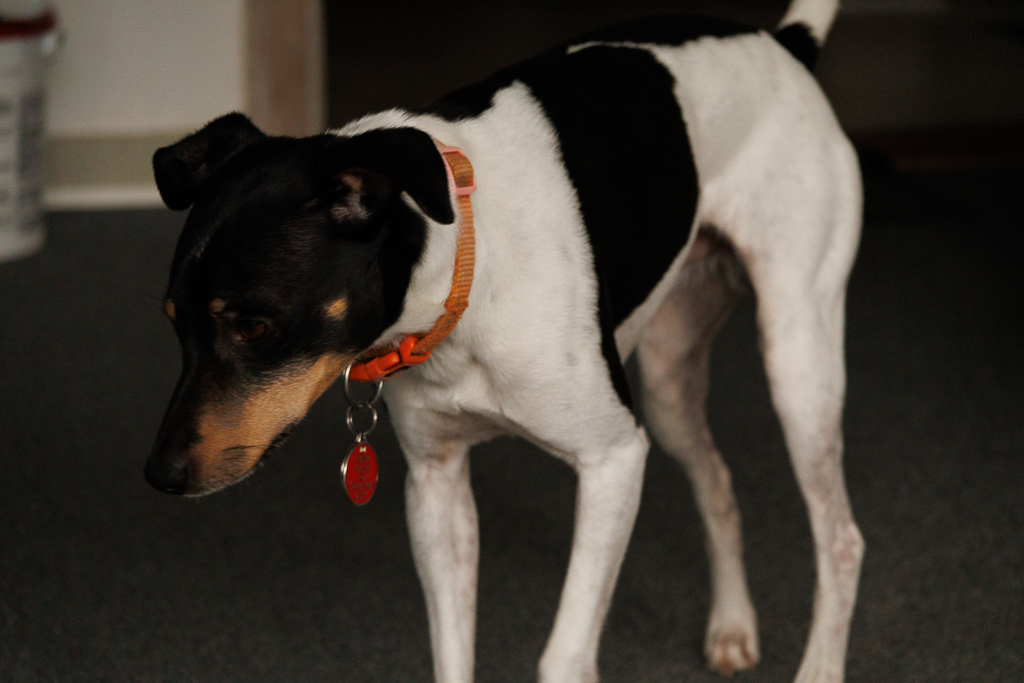Dog: (130, 0, 875, 683)
